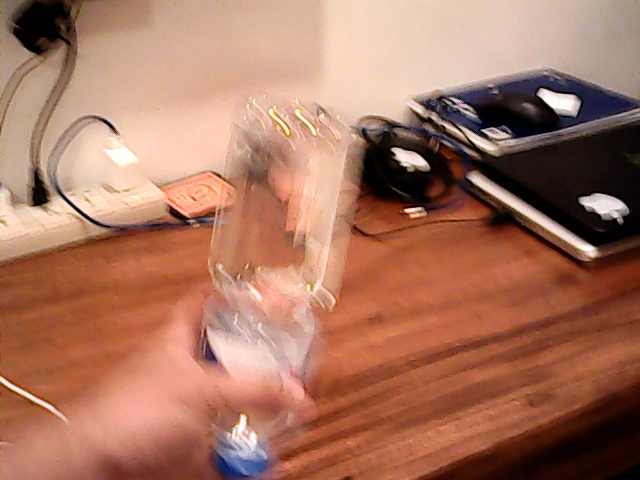Summit Water: (189, 110, 353, 459)
